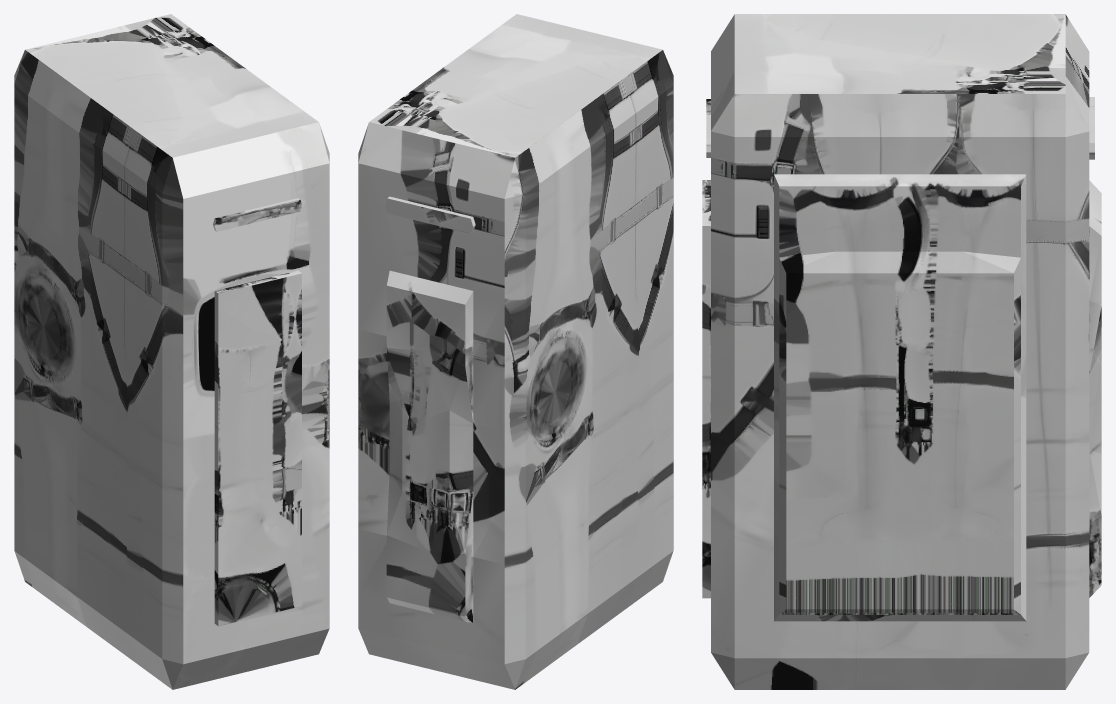
The model's file is backpack3.fbx.
3 renders of one model, left to right at view 1: azimuth 30°, elevation 25°; view 2: azimuth 150°, elevation 25°; view 3: azimuth 270°, elevation 25°, orthographic. The views are drawn at different scales.
Visible parts, largest first — view 1: Mesh_0; view 2: Mesh_0; view 3: Mesh_0.
Boxes of the visible parts, bbox=[...] form: Mesh_0: bbox=[14, 14, 329, 689]; Mesh_0: bbox=[358, 14, 673, 689]; Mesh_0: bbox=[702, 14, 1101, 689].
Bounding box in the file's own units: 70.4 × 200 × 121.
